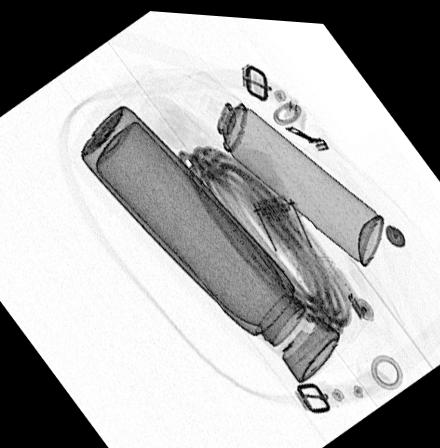Sprayer: (183, 66, 385, 261)
